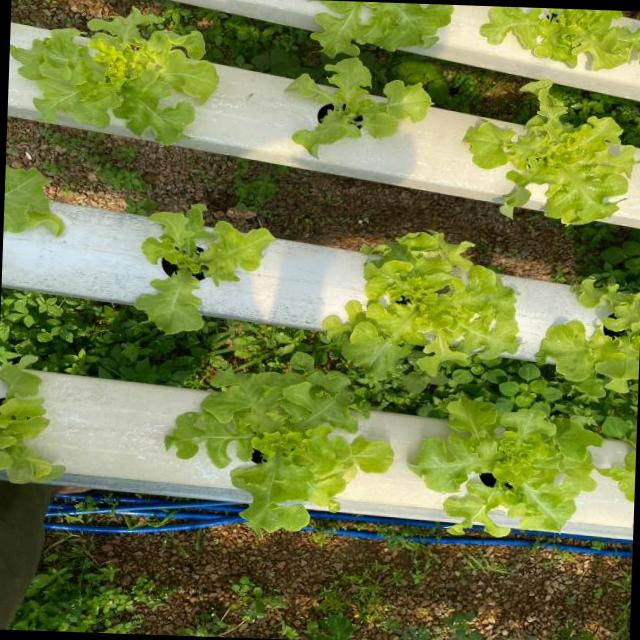Lettuce-Not-Ready-to-Harvest: (167, 360, 391, 530), (9, 10, 217, 143), (334, 233, 519, 376), (415, 396, 601, 534), (465, 82, 636, 223), (137, 204, 272, 333), (294, 56, 428, 151), (539, 279, 640, 400), (481, 6, 640, 68), (316, 0, 451, 54), (0, 358, 56, 482), (3, 166, 62, 232), (602, 420, 637, 498)
